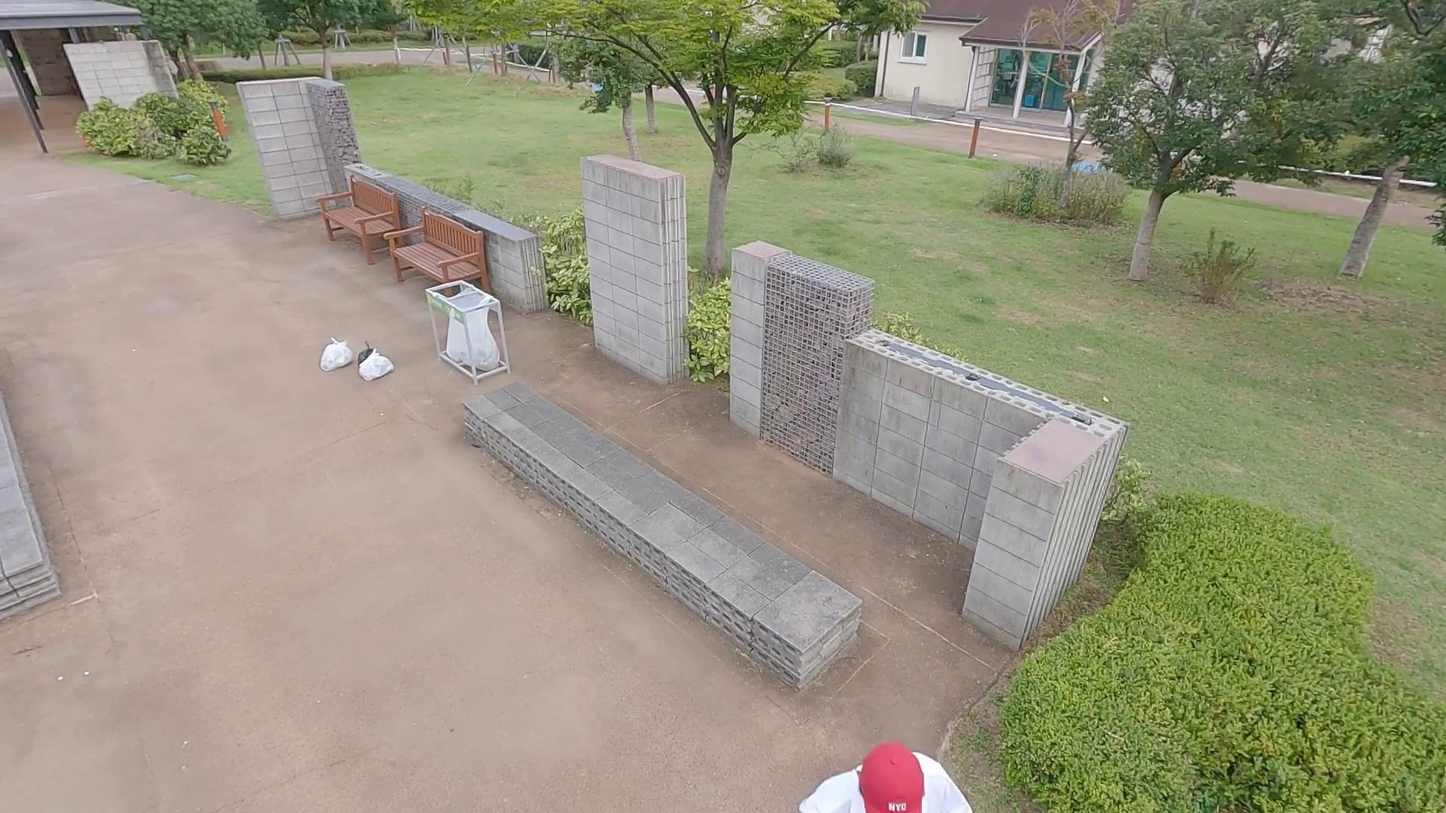trash: (355, 349, 395, 382), (320, 337, 353, 372), (358, 341, 384, 376)
